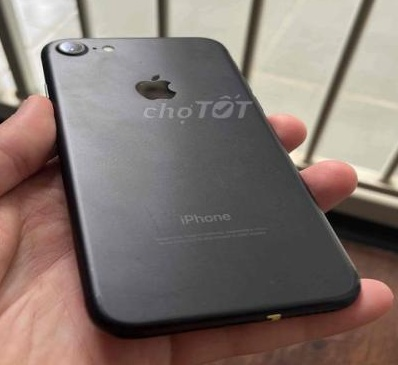scratch: (56, 35, 89, 57)
